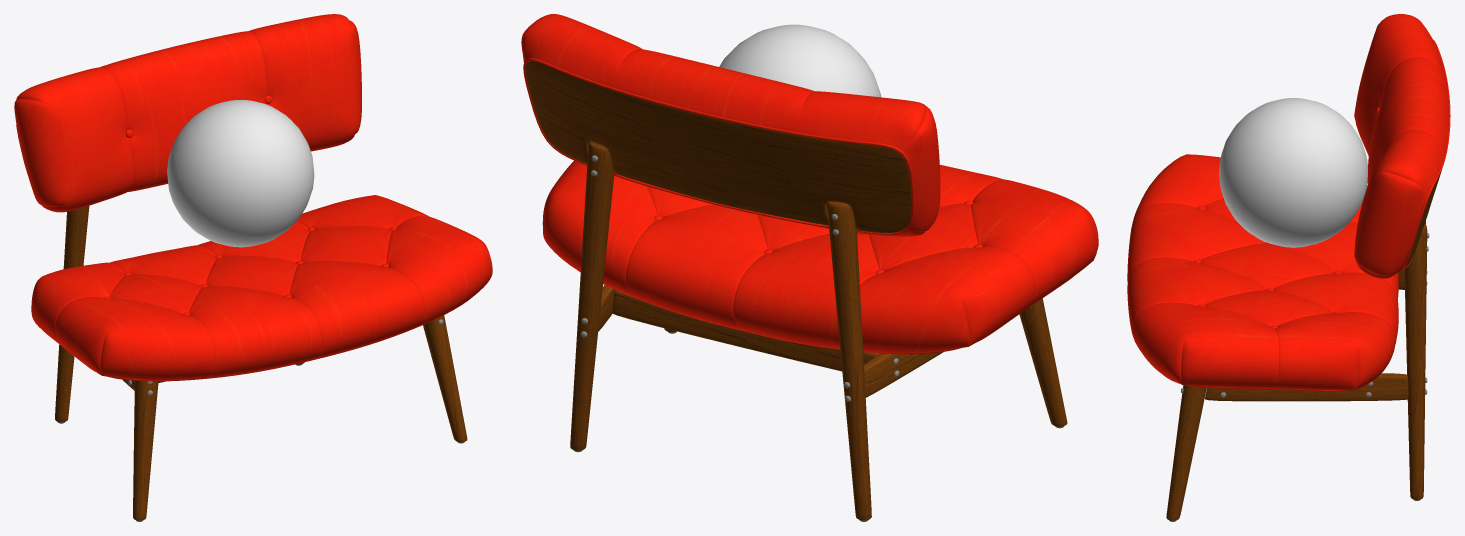
File: MixedLightingExample.gltf
3 views of the same model, side by side, from view 1: azimuth 30°, elevation 25°; view 2: azimuth 150°, elevation 25°; view 3: azimuth 270°, elevation 25° (orthographic). The views are drawn at different scales.
Visible parts, largest first — view 1: SheenChair_fabric, Sphere, SheenChair_wood; view 2: SheenChair_fabric, SheenChair_wood, Sphere; view 3: SheenChair_fabric, Sphere, SheenChair_wood.
Boxes of the visible parts, x1,y1,x2,y2 form: SheenChair_fabric: [14, 14, 492, 381]; Sphere: [167, 99, 314, 247]; SheenChair_wood: [55, 206, 467, 520]; SheenChair_fabric: [521, 14, 1098, 354]; SheenChair_wood: [525, 61, 1067, 520]; Sphere: [719, 24, 881, 97]; SheenChair_fabric: [1127, 14, 1450, 391]; Sphere: [1219, 98, 1367, 247]; SheenChair_wood: [1166, 170, 1441, 520].
Size of what is drawn, in the model's own units: 0.8266 by 0.6862 by 0.5703.
Materials: 5 (3 with a texture image).
